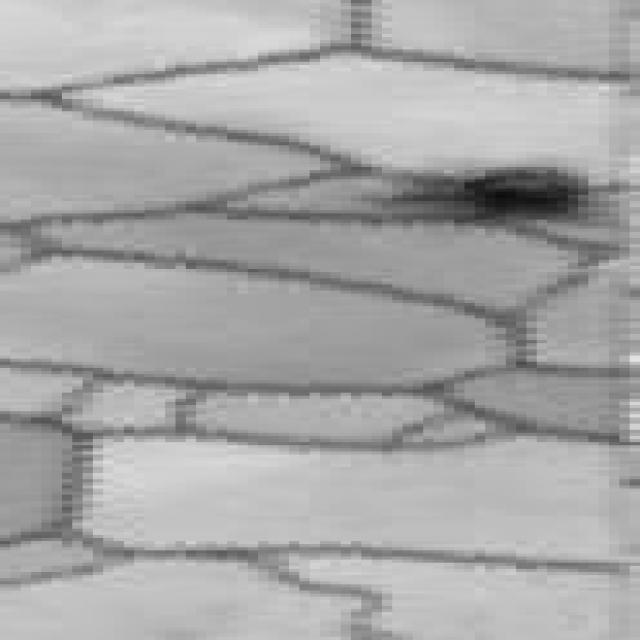good_void: (388, 164, 634, 237)
